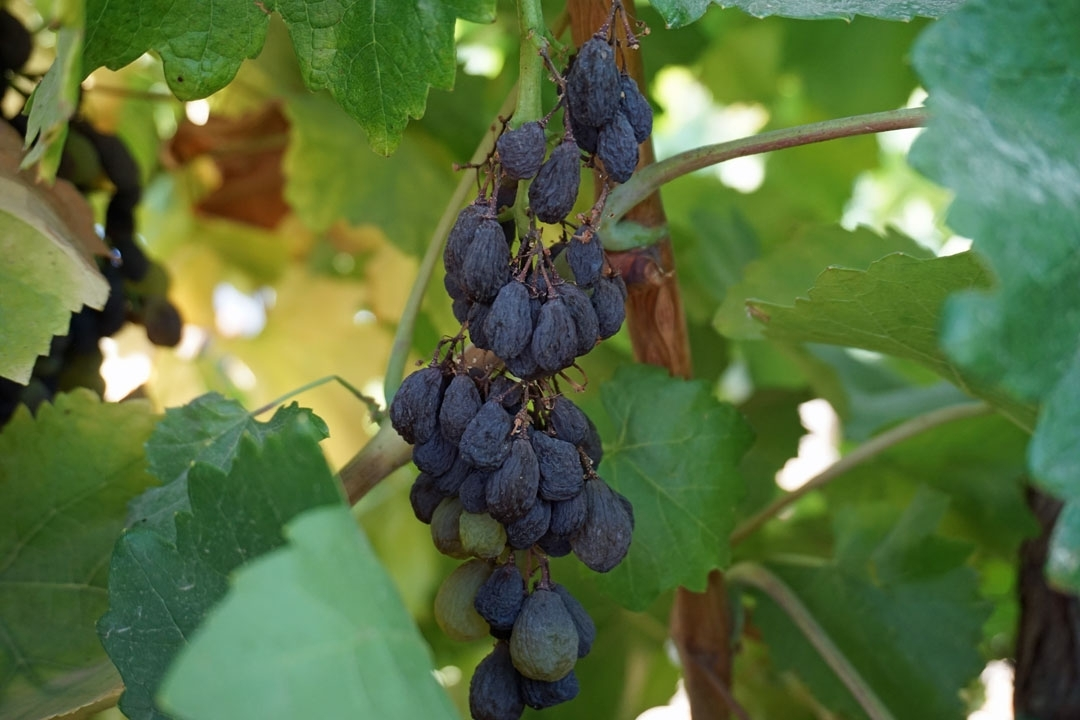Black grapes: (386, 60, 688, 720)
